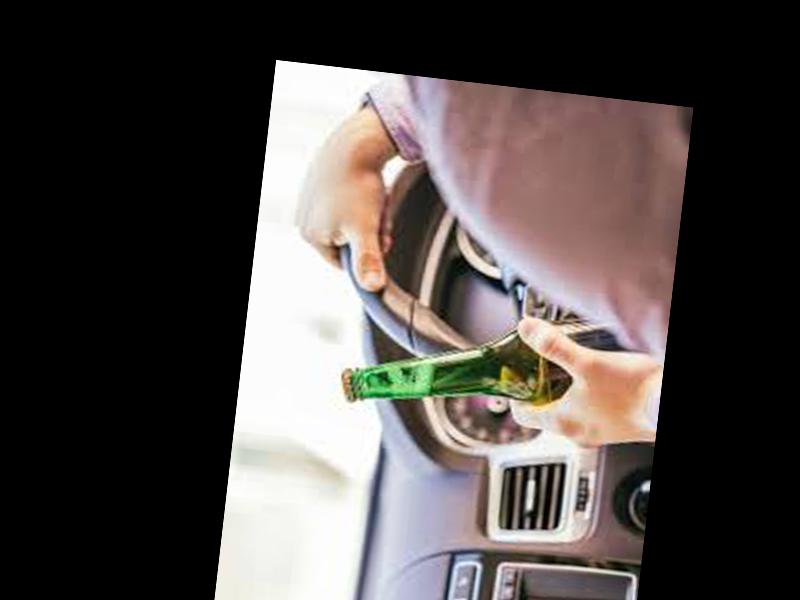Beer: (336, 287, 655, 437)
